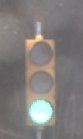Green: (20, 34, 55, 133)
